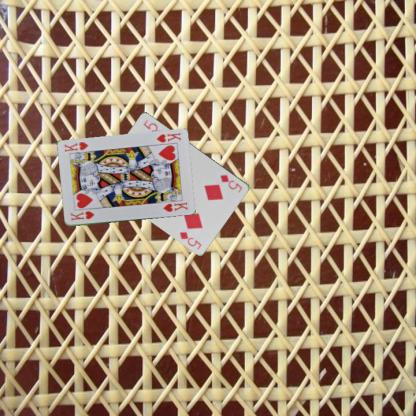5d: (218, 172, 243, 194)
Kh: (68, 208, 96, 222), (154, 130, 182, 144)
